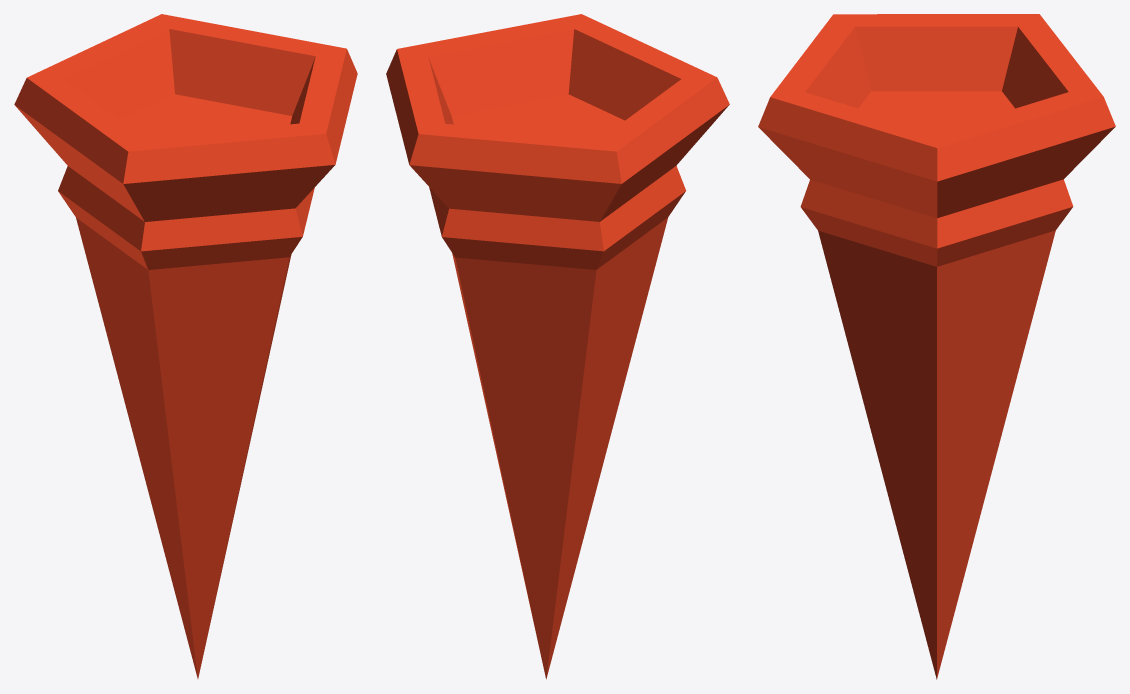
Rendered from SM_Icecream_Cone_City.fbx.
The picture shows the model from 3 angles, left to right: view 1: azimuth 30°, elevation 25°; view 2: azimuth 150°, elevation 25°; view 3: azimuth 270°, elevation 25°; orthographic projection.
Visible parts, largest first — view 1: SM_Icecream_Cone_City; view 2: SM_Icecream_Cone_City; view 3: SM_Icecream_Cone_City.
Boxes of the visible parts, x1,y1,x2,y2 form: SM_Icecream_Cone_City: (14,14,357,678); SM_Icecream_Cone_City: (386,14,729,679); SM_Icecream_Cone_City: (758,14,1115,679).
Bounding box in the file's own units: 0.0665 × 0.1305 × 0.0699.
